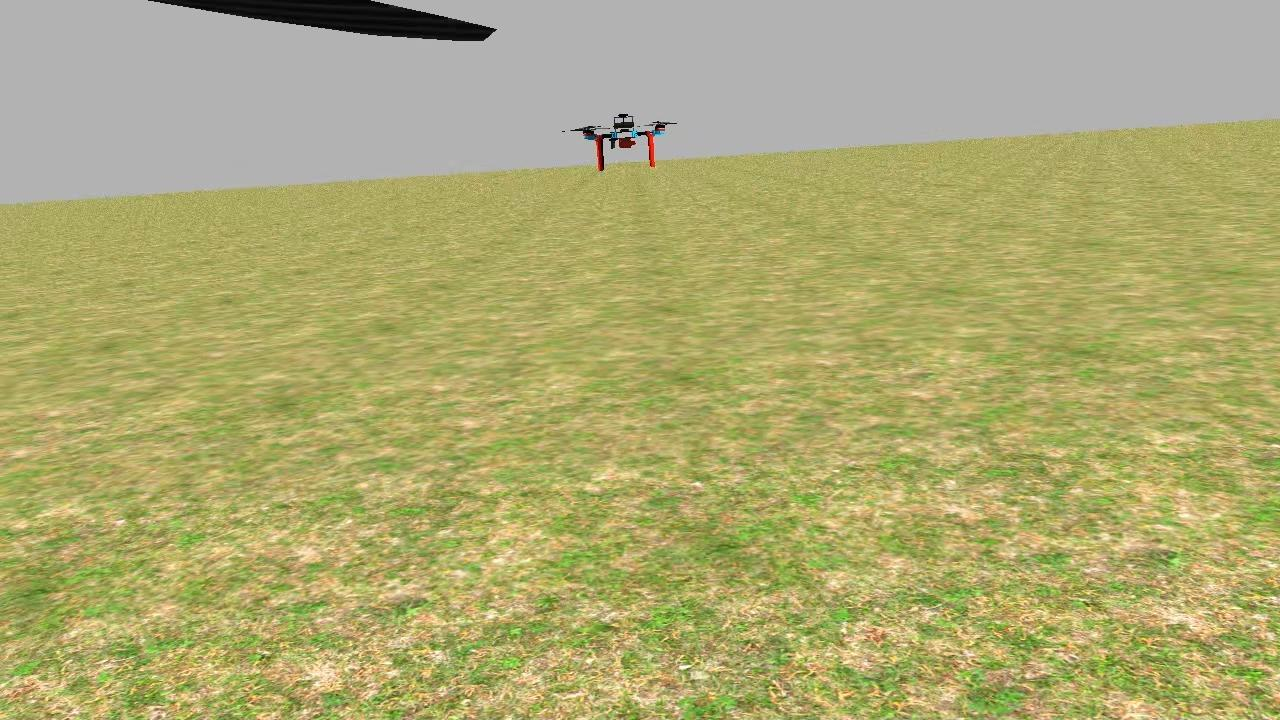UAV: (570, 108, 680, 180)
